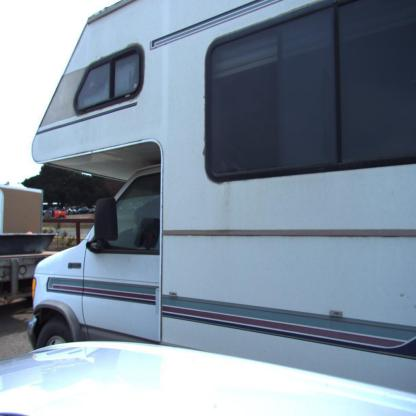truck: (17, 3, 416, 412)
